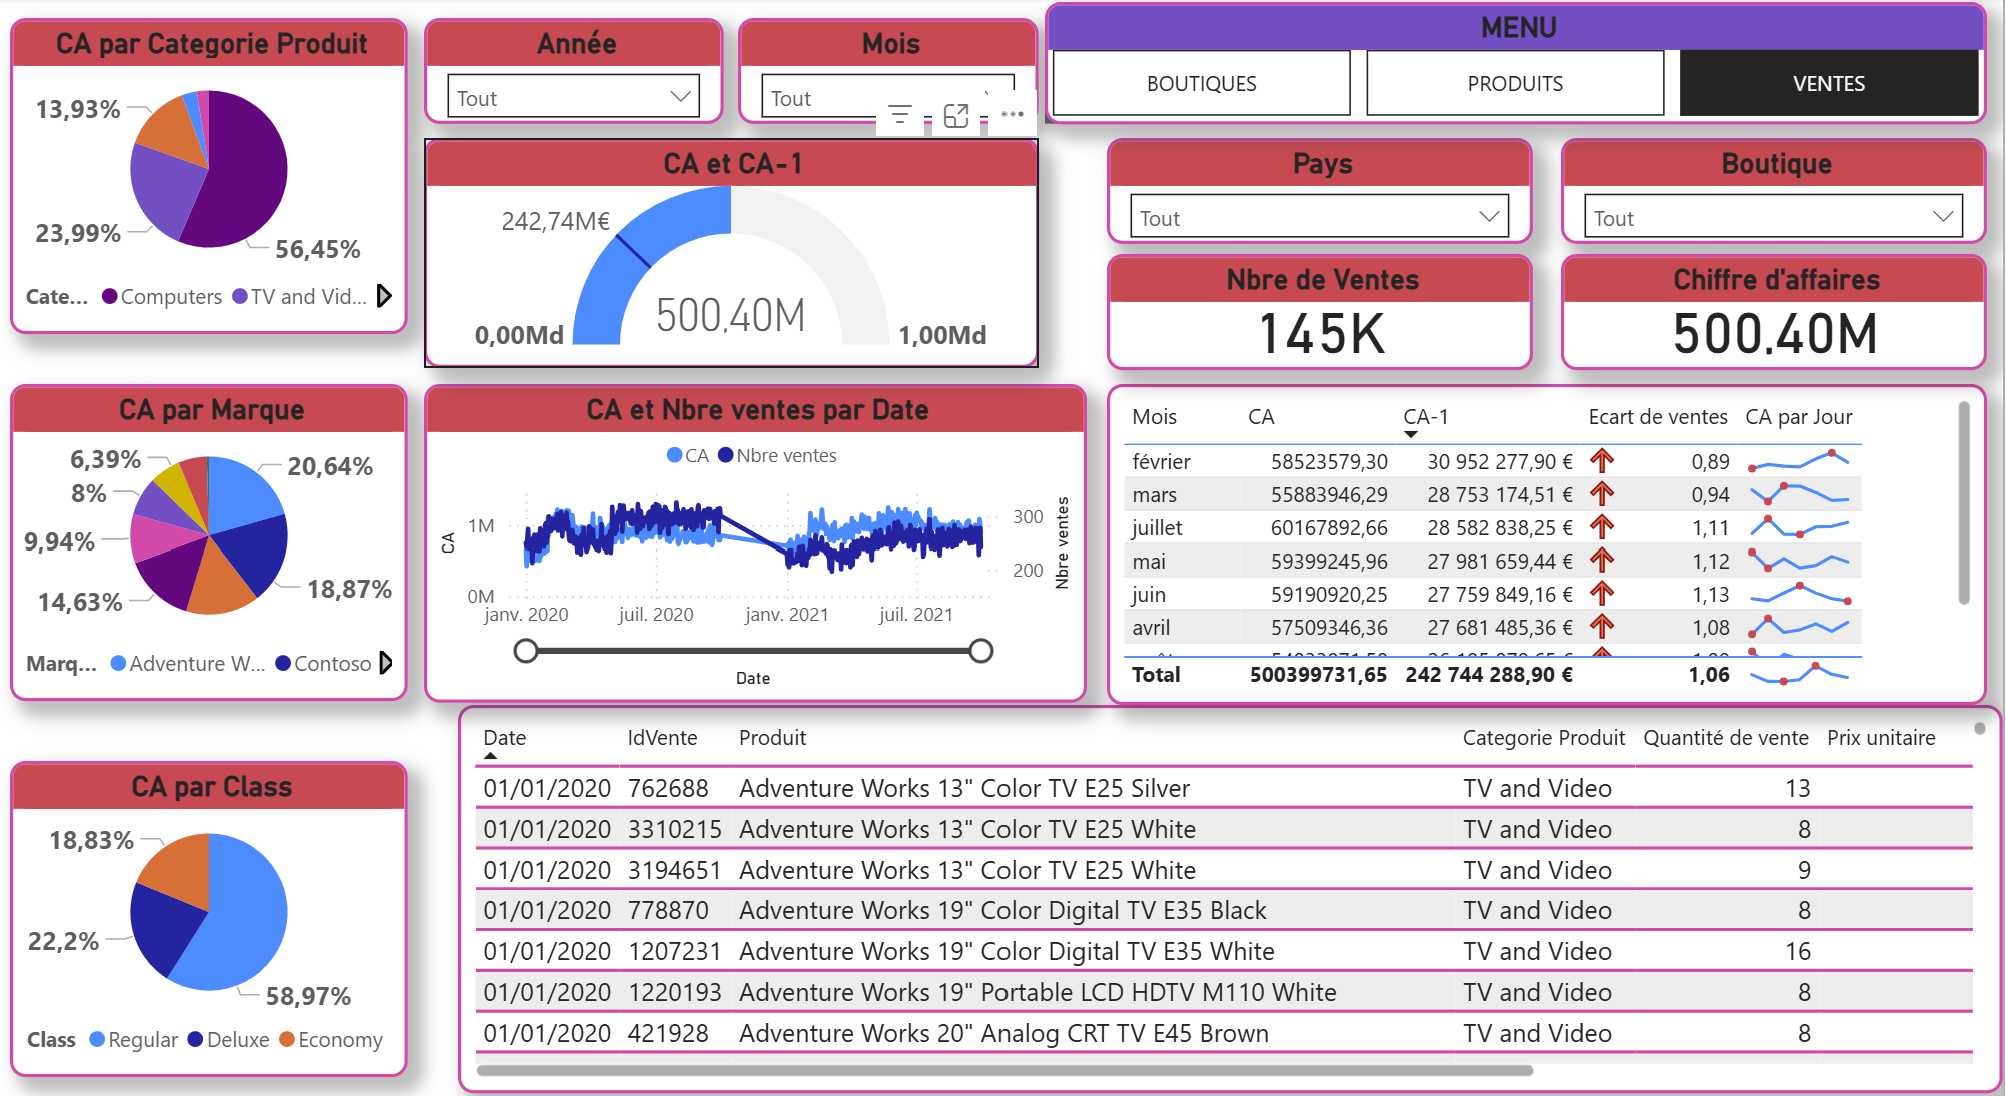

This screenshot's page, from the dashboard's own definition file:
{"tool":"powerbi","page":{"name":"VENTES","canvas":[1280,720],"ordinal":2},"visuals":[{"type":"pieChart","fields":{"Category":["Categorie Produits.Categorie Produit"],"Y":["Sales.CA"]},"box":[10.2,14,253.7,201.4],"z":0},{"type":"pieChart","fields":{"Y":["Sales.CA"],"Category":["Produits.Class"]},"box":[10.2,487,253.7,201.4],"z":1000},{"type":"pieChart","fields":{"Y":["Sales.CA"],"Category":["Produits.Marque"]},"box":[10.2,247.3,253.7,201.4],"z":2000},{"type":"slicer","title":"Année","fields":{"Values":["DateTable.Année"]},"box":[274.1,14,191.2,67.6],"z":3000},{"type":"slicer","title":"Mois","fields":{"Values":["DateTable.Mois"]},"box":[474.3,14,191.2,67.6],"z":4000},{"type":"tableEx","fields":{"Values":["DateTable.Date","Sales.IdVente","Produits.Produit","Categorie Produits.Categorie Produit","Sales.Quantité de vente","Produits.Prix unitaire","Sales.Montant vente","Sales.Remise","Sales.Montant vente après remise"]},"box":[295.8,451.3,984.2,247.3],"z":5000},{"type":"lineChart","fields":{"Y":["Sales.CA"],"Y2":["Sales.Nbre ventes"],"Category":["DateTable.Date"]},"box":[274.1,247.3,422,202.7],"z":5001},{"type":"gauge","fields":{"Y":["Sales.CA"],"TargetValue":["Sales.CA-1"]},"box":[274.1,90.5,391.4,146.6],"z":5002},{"type":"tableEx","fields":{"Values":["DateTable.Mois","Sales.CA","Sales.CA-1","Sales.Ecart de ventes","SparklineData(Sales.CA_[DateTable.Jour])"]},"box":[708.8,247.3,561,204],"z":5003},{"type":"slicer","title":"Pays","fields":{"Values":["Geographie.Pays"]},"box":[708.8,90.5,271.6,67.6],"z":5006},{"type":"slicer","title":"Boutique","fields":{"Values":["Boutiques.Boutique"]},"box":[998.2,90.5,271.6,67.6],"z":5007},{"type":"card","title":"Nbre de Ventes","fields":{"Values":["Sales.Nbre ventes"]},"box":[708.8,164.5,271.6,73.9],"z":5008},{"type":"card","title":"Chiffre d''affaires","fields":{"Values":["Sales.CA"]},"box":[998.2,164.5,271.6,73.9],"z":5009},{"type":"actionButton","box":[669.3,17.8,80.3,63.7],"z":5010},{"type":"pageNavigator","title":"MENU","box":[669.3,3.8,600.5,77.8],"z":5011}]}

Visuals, with their boxes in screenshot pixels (x1, y1, x2, y2), scaled from the page's 1280x720 canvas onto the 2006x1096 screenshot:
pieChart - Categorie Produits.Categorie Produit x Sales.CA: {"x1": 16, "y1": 21, "x2": 414, "y2": 328}
pieChart - Sales.CA x Produits.Class: {"x1": 16, "y1": 741, "x2": 414, "y2": 1048}
pieChart - Sales.CA x Produits.Marque: {"x1": 16, "y1": 376, "x2": 414, "y2": 683}
"Année" slicer: {"x1": 430, "y1": 21, "x2": 729, "y2": 124}
"Mois" slicer: {"x1": 743, "y1": 21, "x2": 1043, "y2": 124}
tableEx - DateTable.Date x Sales.IdVente: {"x1": 464, "y1": 687, "x2": 2005, "y2": 1063}
lineChart - Sales.CA x Sales.Nbre ventes: {"x1": 430, "y1": 376, "x2": 1091, "y2": 685}
gauge - Sales.CA x Sales.CA-1: {"x1": 430, "y1": 138, "x2": 1043, "y2": 361}
tableEx - DateTable.Mois x Sales.CA: {"x1": 1111, "y1": 376, "x2": 1990, "y2": 687}
"Pays" slicer: {"x1": 1111, "y1": 138, "x2": 1536, "y2": 241}
"Boutique" slicer: {"x1": 1564, "y1": 138, "x2": 1990, "y2": 241}
"Nbre de Ventes" card: {"x1": 1111, "y1": 250, "x2": 1536, "y2": 363}
"Chiffre d''affaires" card: {"x1": 1564, "y1": 250, "x2": 1990, "y2": 363}
actionButton: {"x1": 1049, "y1": 27, "x2": 1175, "y2": 124}
"MENU" pageNavigator: {"x1": 1049, "y1": 6, "x2": 1990, "y2": 124}
